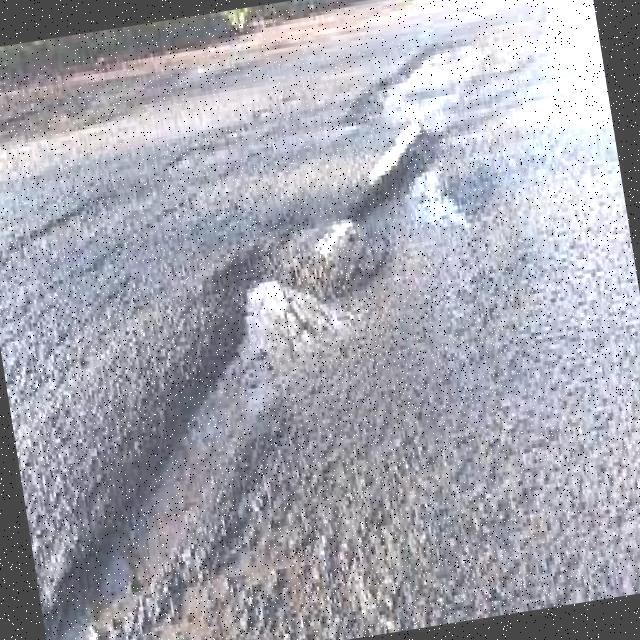pothole: (41, 252, 352, 640), (373, 44, 489, 129), (390, 154, 471, 222), (327, 220, 369, 254)
